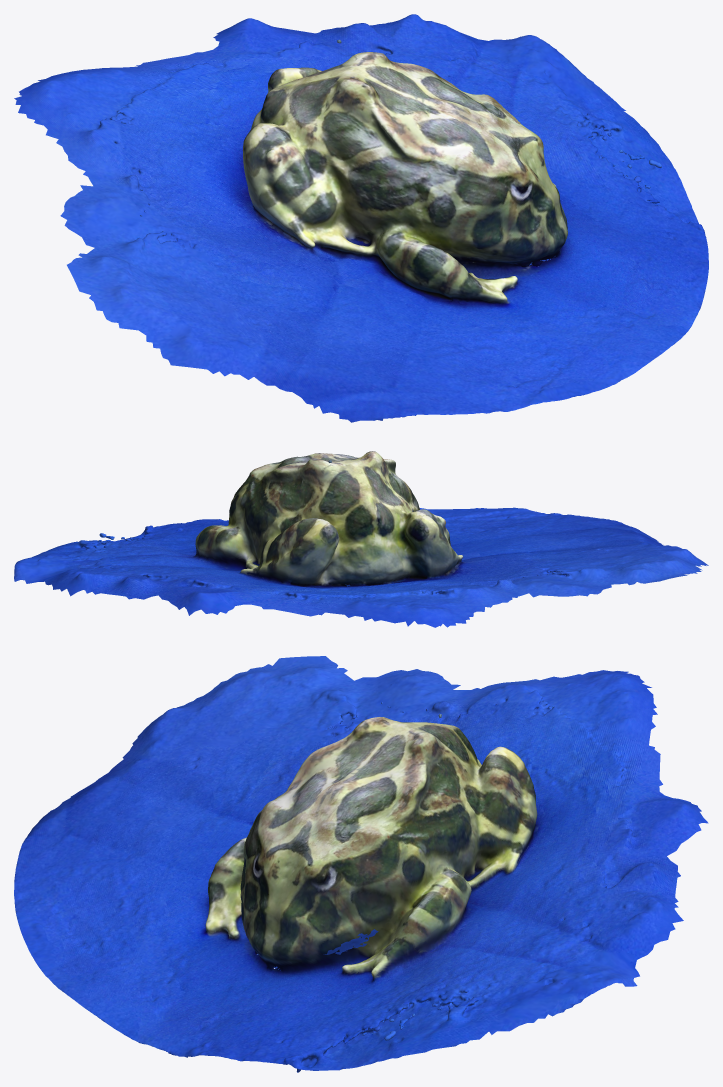
Rendered from nm__hornedfrog.glb.
3 views of the same model, one above another, from view 1: azimuth 30°, elevation 25°; view 2: azimuth 150°, elevation 25°; view 3: azimuth 270°, elevation 25° (orthographic). The views are drawn at different scales.
Parts seen in each view (by area): view 1: Object_2, Object_3, Object_4; view 2: Object_2, Object_3, Object_4; view 3: Object_2, Object_3, Object_4.
Boxes of the visible parts, x1,y1,x2,y2 form: Object_2: [14, 16, 708, 422]; Object_3: [60, 23, 698, 414]; Object_4: [41, 14, 708, 413]; Object_2: [47, 451, 692, 627]; Object_3: [16, 451, 708, 611]; Object_4: [14, 451, 701, 615]; Object_2: [14, 657, 686, 1066]; Object_3: [15, 669, 701, 1072]; Object_4: [14, 656, 708, 1072].
Size of the model in its own units: 6.38 by 2.22 by 5.81.
2 materials, 2 textured.
